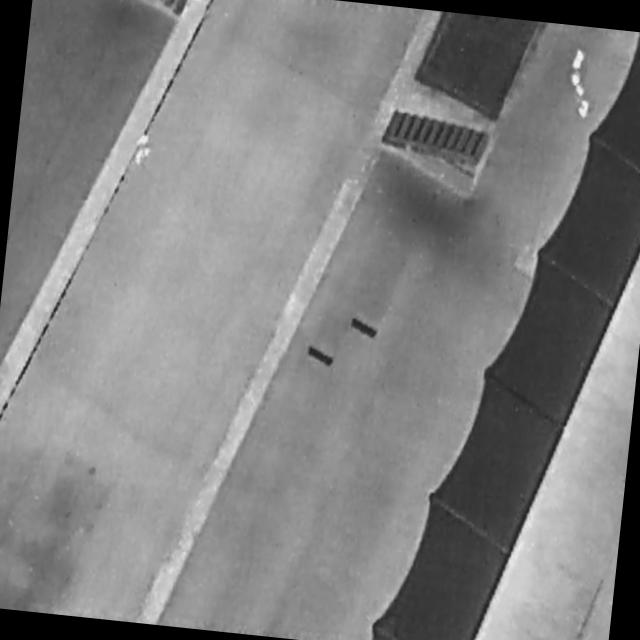person: (134, 131, 154, 167)
